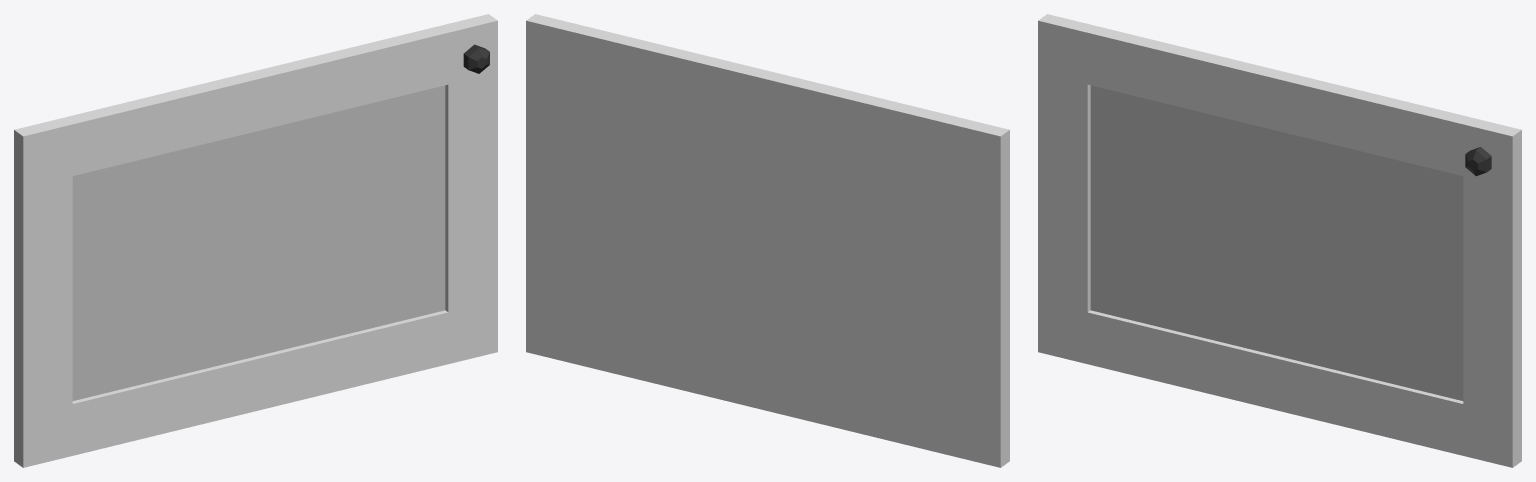
The model's file is TV_Table3_C1_03.fbx.
The picture shows the model from 3 angles, left to right: view 1: azimuth 30°, elevation 25°; view 2: azimuth 150°, elevation 25°; view 3: azimuth 330°, elevation 25°; orthographic projection.
Visible parts, largest first — view 1: TV_Table3_C1_03; view 2: TV_Table3_C1_03; view 3: TV_Table3_C1_03.
Part boxes in pixels (x1,y1,x2,y2): TV_Table3_C1_03: (14,14,497,467); TV_Table3_C1_03: (526,14,1009,467); TV_Table3_C1_03: (1038,14,1521,467).
Size of the model in its own units: 59.97 by 40.02 by 4.58.
